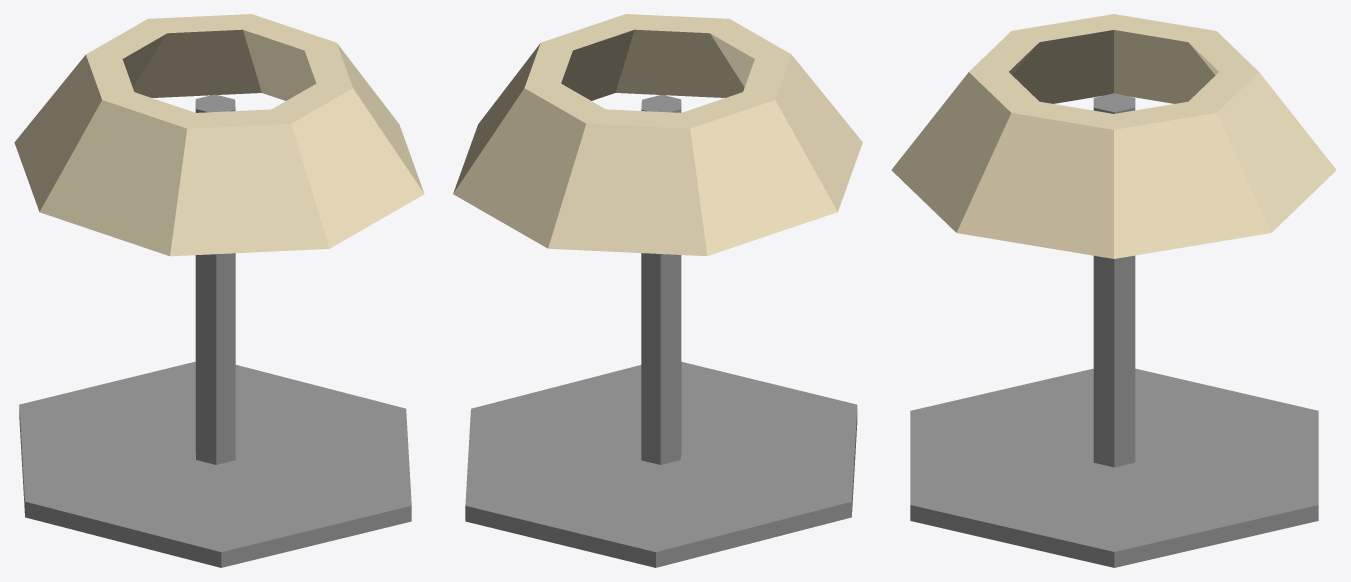
The model's file is qt-lamp2.glb.
3 renders of one model, left to right at view 1: azimuth 30°, elevation 25°; view 2: azimuth 150°, elevation 25°; view 3: azimuth 270°, elevation 25°, orthographic.
Visible parts, largest first — view 1: Lamp_Cylinder.003; view 2: Lamp_Cylinder.003; view 3: Lamp_Cylinder.003.
Boxes of the visible parts, left/top/right/bottom form: Lamp_Cylinder.003: left=14, top=14, right=424, bottom=567; Lamp_Cylinder.003: left=453, top=14, right=862, bottom=567; Lamp_Cylinder.003: left=891, top=14, right=1336, bottom=567.
Bounding box in the file's own units: 1 × 1 × 1.
